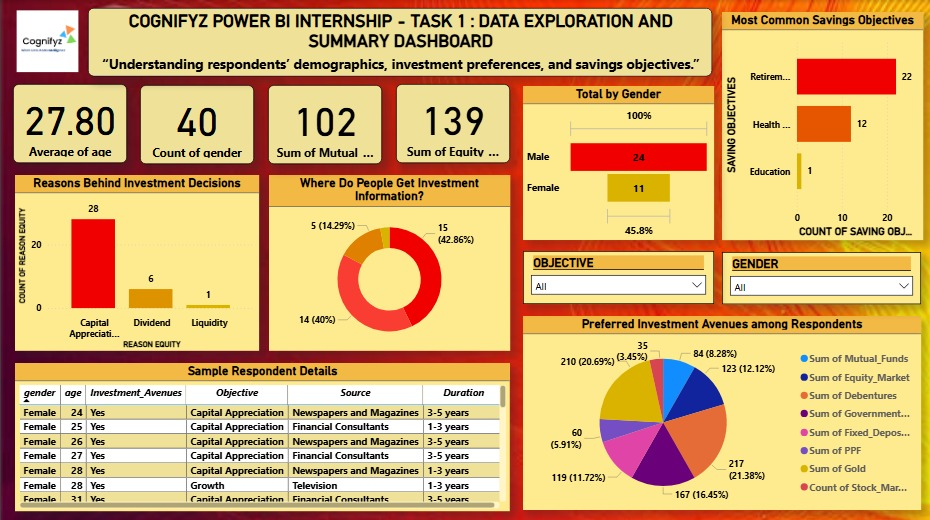

What the dashboard file says about the page in this screenshot:
{"tool":"powerbi","page":{"name":"Page 1","canvas":[1280,720],"ordinal":0},"visuals":[{"type":"card","fields":{"Values":["Avg(Data_set 2.age)"]},"box":[16.5,115.6,156.9,108.7],"z":0},{"type":"card","fields":{"Values":["CountNonNull(Data_set 2.gender)"]},"box":[191.3,117,156.9,108.7],"z":1000},{"type":"pieChart","title":"Preferred Investment Avenues among Respondents","fields":{"Y":["Sum(Data_set 2.Mutual_Funds)","Sum(Data_set 2.Equity_Market)","Sum(Data_set 2.Debentures)","Sum(Data_set 2.Government_Bonds)","Sum(Data_set 2.Fixed_Deposits)","Sum(Data_set 2.PPF)","Sum(Data_set 2.Gold)","CountNonNull(Data_set 2.Stock_Marktet)"]},"box":[718.5,434.9,547.8,267],"z":2000},{"type":"clusteredBarChart","title":"Most Common Savings Objectives","fields":{"Category":["Data_set 2.What are your savings objectives?"],"Y":["CountNonNull(Data_set 2.What are your savings objectives?)"]},"box":[992.3,16.5,276.6,313.8],"z":3000},{"type":"columnChart","title":"Reasons Behind Investment Decisions","fields":{"Category":["Data_set 2.Reason_Equity"],"Y":["CountNonNull(Data_set 2.Reason_Equity)"]},"box":[19.3,240.9,335.8,242.2],"z":4000},{"type":"donutChart","title":"Where Do People Get Investment Information?","fields":{"Category":["Data_set 2.Source"],"Y":["CountNonNull(Data_set 2.Source)"]},"box":[368.9,240.9,331.7,242.2],"z":5000},{"type":"slicer","title":"GENDER","fields":{"Values":["Data_set 2.gender"]},"box":[992.3,346.8,273.9,71.6],"z":6000},{"type":"slicer","title":"GENDER","fields":{"Values":["Data_set 2.Objective"]},"box":[718.5,345.5,262.9,72.9],"z":7000},{"type":"tableEx","title":"Sample Respondent Details","fields":{"Values":["Data_set 2.gender","Data_set 2.age","Data_set 2.Investment_Avenues","Data_set 2.Objective","Data_set 2.Source","Data_set 2.Duration"]},"box":[19.3,499.6,681.3,203.7],"z":8000},{"type":"textbox","title":"COGNIFYZ POWER BI INTERNSHIP - TASK 1 : DATA EXPLORATION AND SUMMARY DASHBOARD","box":[119.7,11,858.8,93.6],"z":9000},{"type":"image","box":[16.5,8.3,95,96.3],"z":10000},{"type":"card","fields":{"Values":["Sum(Data_set 2.Mutual_Funds)"]},"box":[367.5,117,156.9,108.7],"z":11000},{"type":"card","fields":{"Values":["Sum(Data_set 2.Equity_Market)"]},"box":[543.7,115.6,156.9,108.7],"z":12000},{"type":"funnel","title":"Total by Gender","fields":{"Category":["Data_set 2.gender"],"Y":["CountNonNull(Data_set 2.gender)"]},"box":[718.5,118.4,262.9,212],"z":13000}]}

Visuals, with their boxes in screenshot pixels (x1, y1, x2, y2), scaled from the page's 1280x720 canvas onto the 930x520 screenshot:
card - Avg(Data_set 2.age): (12, 83, 126, 162)
card - CountNonNull(Data_set 2.gender): (139, 84, 253, 163)
"Preferred Investment Avenues among Respondents" pieChart: (522, 314, 920, 507)
"Most Common Savings Objectives" clusteredBarChart: (721, 12, 922, 239)
"Reasons Behind Investment Decisions" columnChart: (14, 174, 258, 349)
"Where Do People Get Investment Information?" donutChart: (268, 174, 509, 349)
"GENDER" slicer: (721, 250, 920, 302)
"GENDER" slicer: (522, 250, 713, 302)
"Sample Respondent Details" tableEx: (14, 361, 509, 508)
"COGNIFYZ POWER BI INTERNSHIP - TASK 1 : DATA EXPLORATION AND SUMMARY DASHBOARD" textbox: (87, 8, 711, 76)
image: (12, 6, 81, 76)
card - Sum(Data_set 2.Mutual_Funds): (267, 84, 381, 163)
card - Sum(Data_set 2.Equity_Market): (395, 83, 509, 162)
"Total by Gender" funnel: (522, 86, 713, 239)
